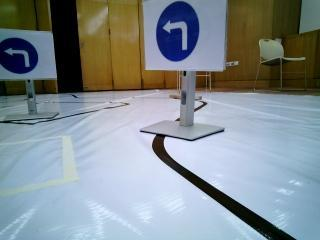left: (142, 2, 225, 65), (3, 32, 60, 76)
